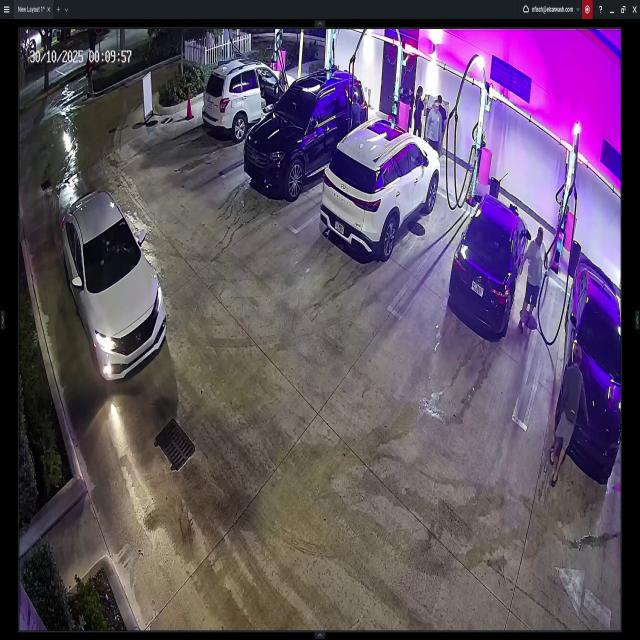Car: (57, 196, 169, 380), (321, 113, 438, 259), (244, 70, 367, 194), (448, 185, 528, 340), (566, 254, 620, 478), (200, 57, 296, 141)
